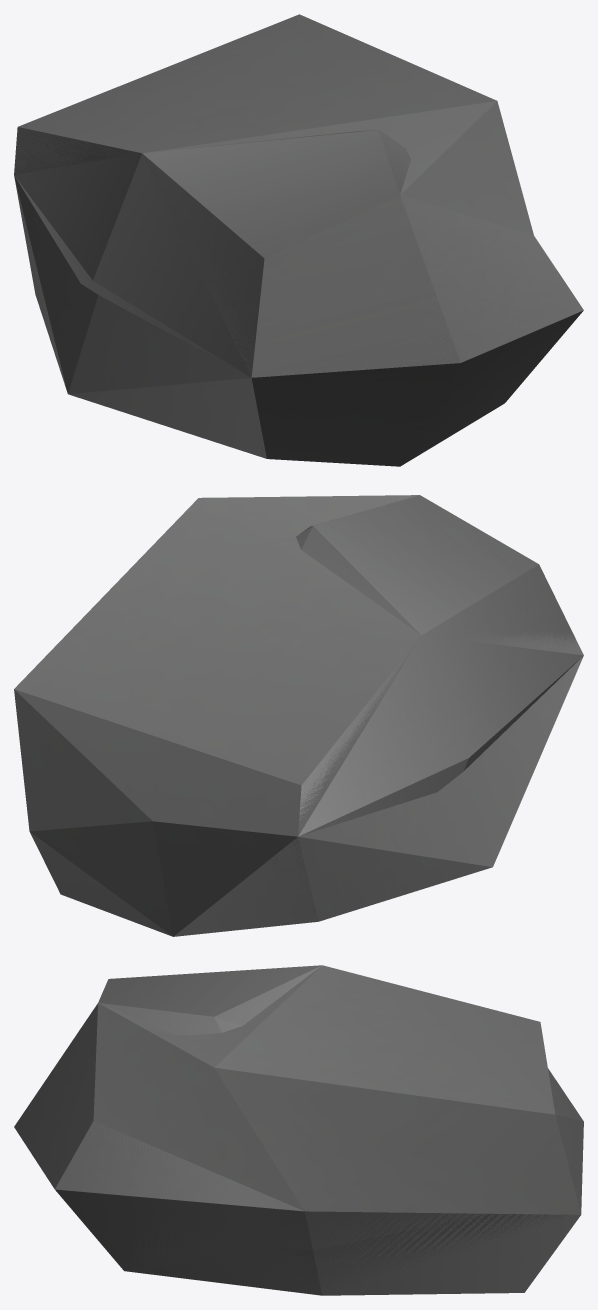
Rendered from Rock.fbx.
3 renders of one model, top to bottom at view 1: azimuth 30°, elevation 25°; view 2: azimuth 150°, elevation 25°; view 3: azimuth 270°, elevation 25°, orthographic. The views are drawn at different scales.
Parts seen in each view (by area): view 1: Rock_A, Rock_B; view 2: Rock_B, Rock_A; view 3: Rock_B, Rock_A.
Part boxes in pixels (x1,y1,x2,y2): Rock_A: (14, 127, 583, 466); Rock_B: (14, 14, 533, 462); Rock_B: (14, 495, 583, 936); Rock_A: (30, 495, 583, 936); Rock_B: (87, 965, 583, 1294); Rock_A: (14, 965, 580, 1295).
Size of the model in its own units: 50.72 by 32.42 by 69.05.
1 material, 1 textured.
